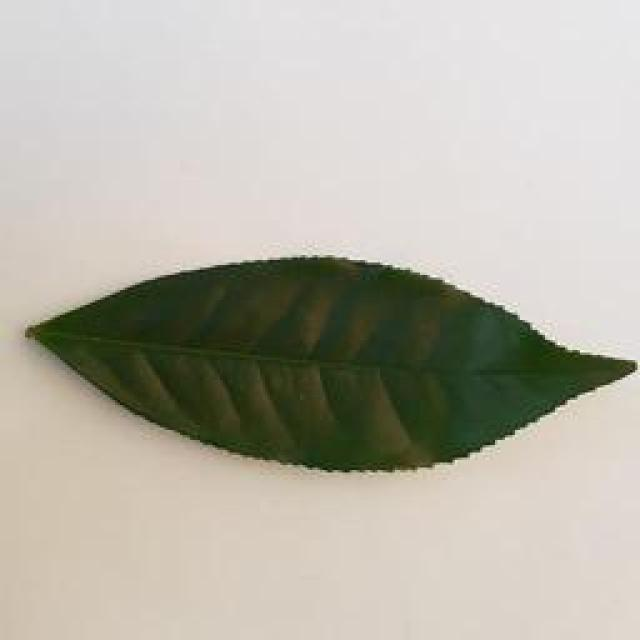Healthy: (0, 228, 640, 515)
